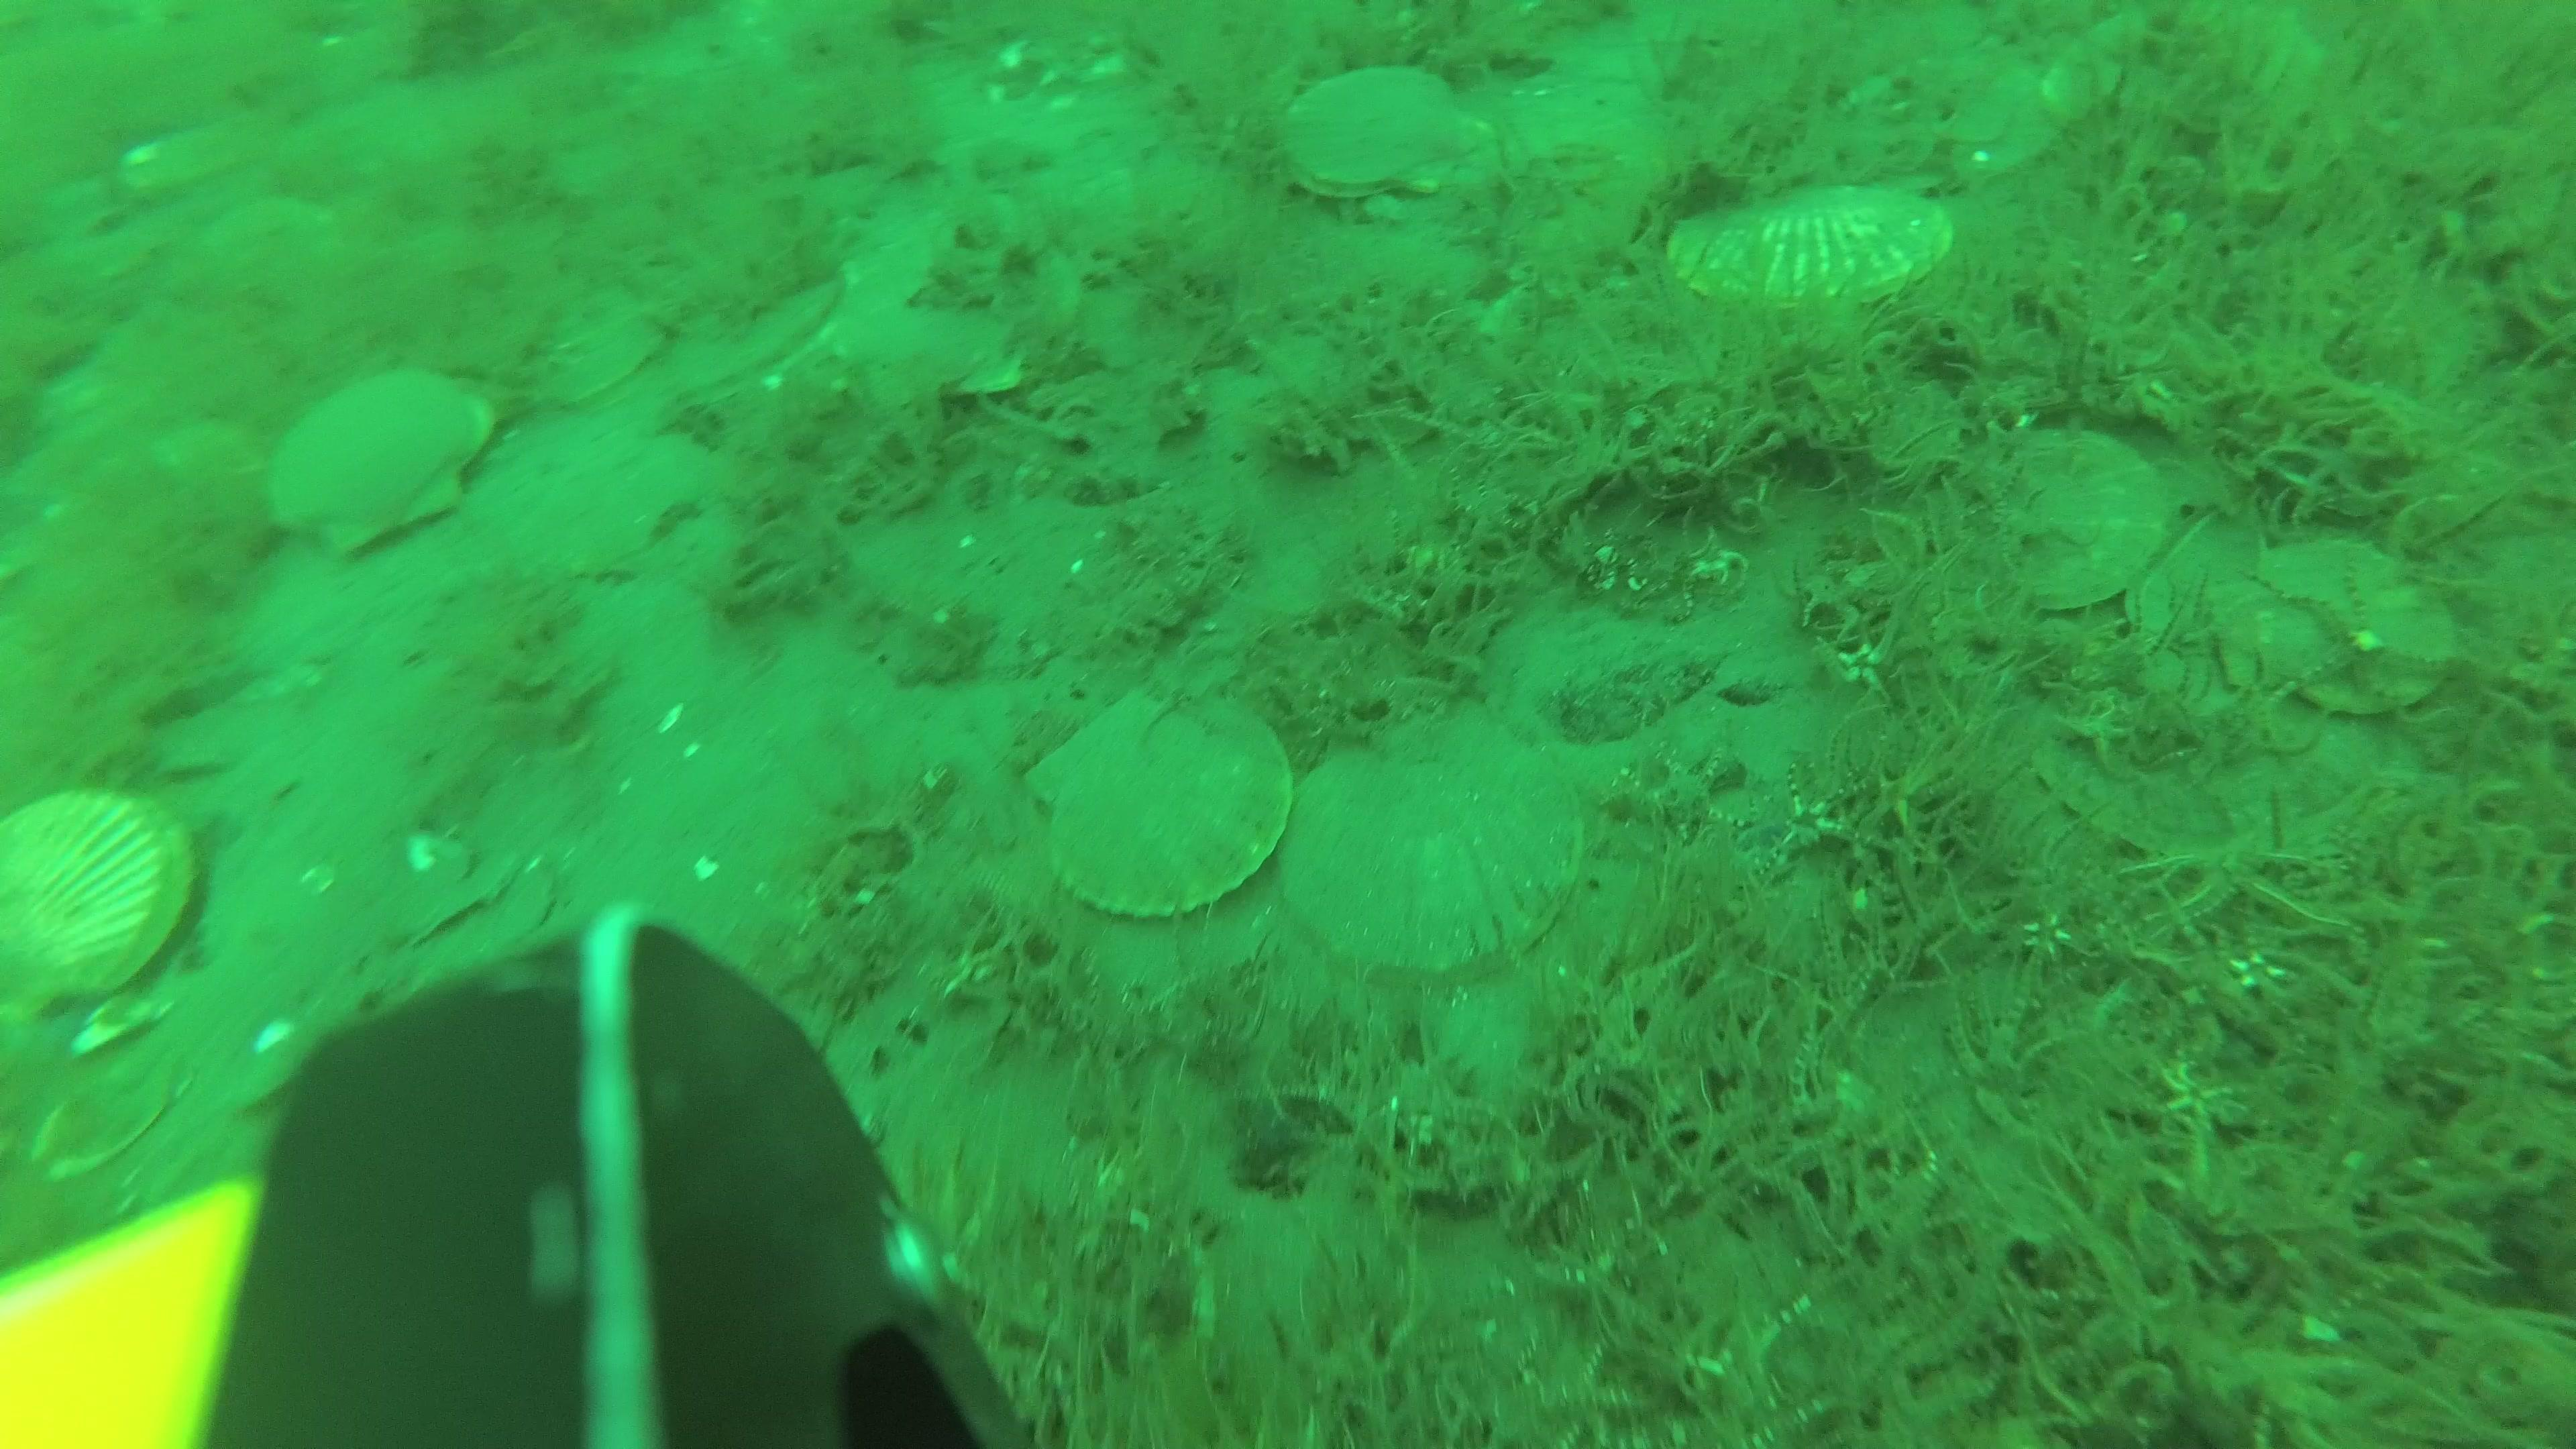scallop: (1292, 708, 1573, 989), (1028, 688, 1297, 911), (0, 789, 184, 1016), (269, 370, 492, 556), (844, 211, 1065, 396), (2042, 0, 2330, 140), (1974, 419, 2169, 614), (1651, 180, 1951, 304), (1274, 58, 1493, 196)
